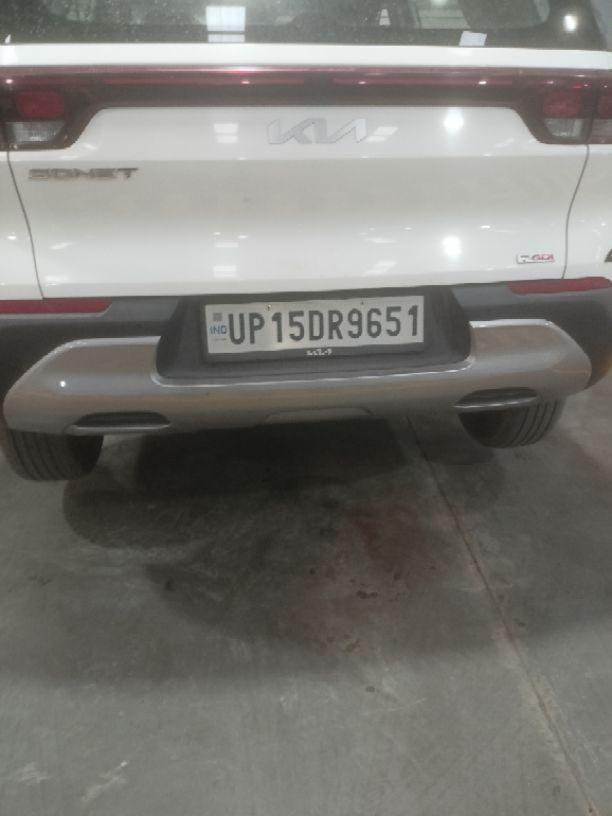license_plate: (199, 292, 428, 362)
